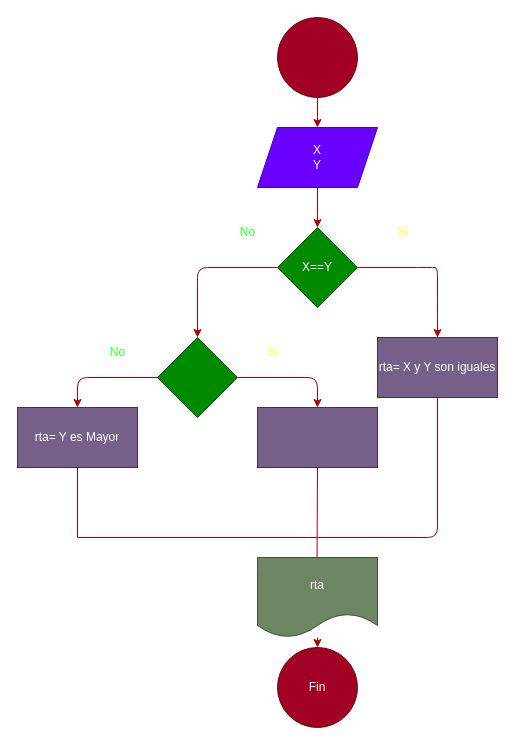
This 515x745 diagram has some shape labels left out. Each missing label, with the centre of its shape:
Inicio: point 317,57
rta= X es mayor: point 317,437
X>Y: point 197,377
